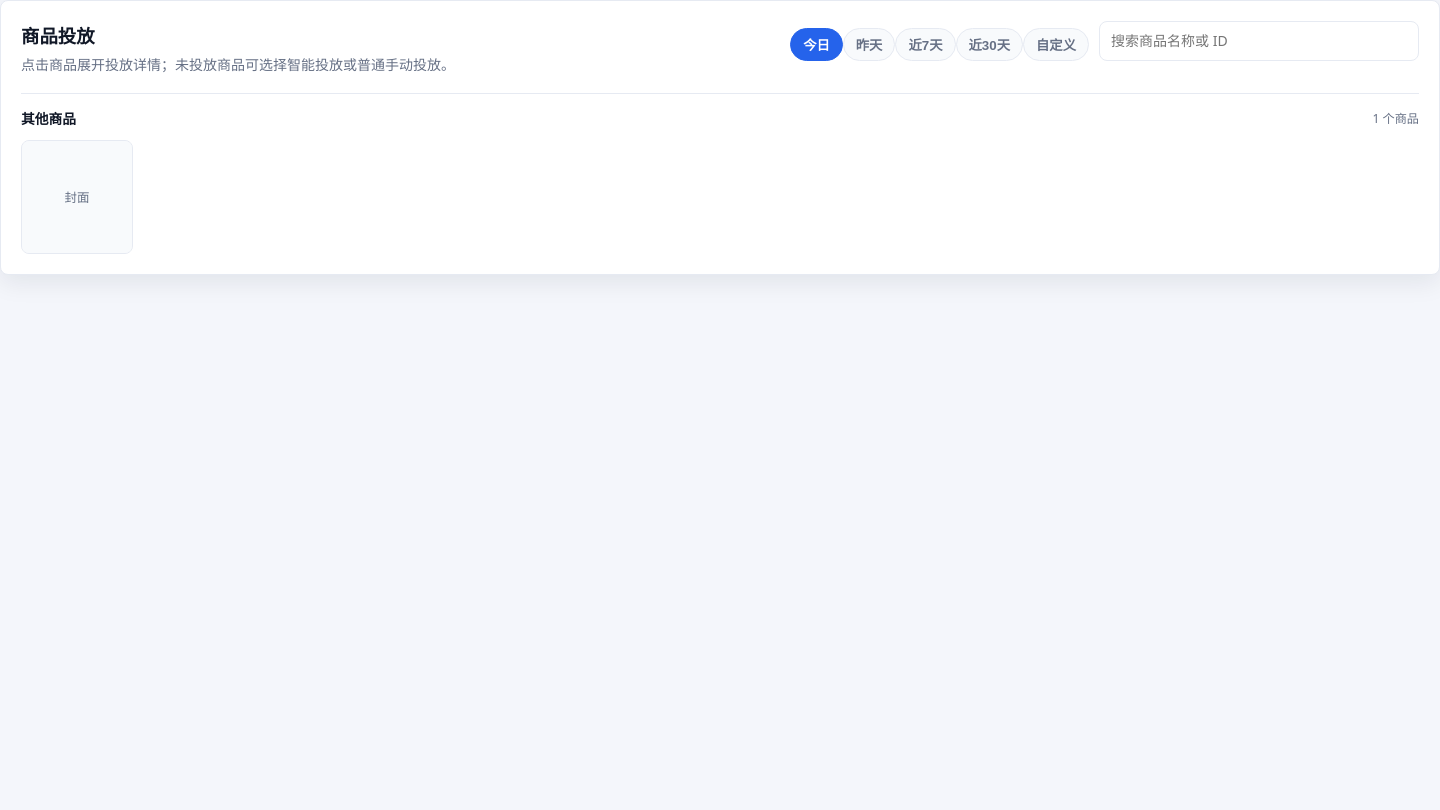
Test case: ProductAutomationPanel campaign creation result › creates an image-only Product GMV Max campaign when no identity is available
Click the button with aria-label "展开商品 测试商品".
click(77, 197)  # box top-left (22, 141), bottom-right (132, 253)
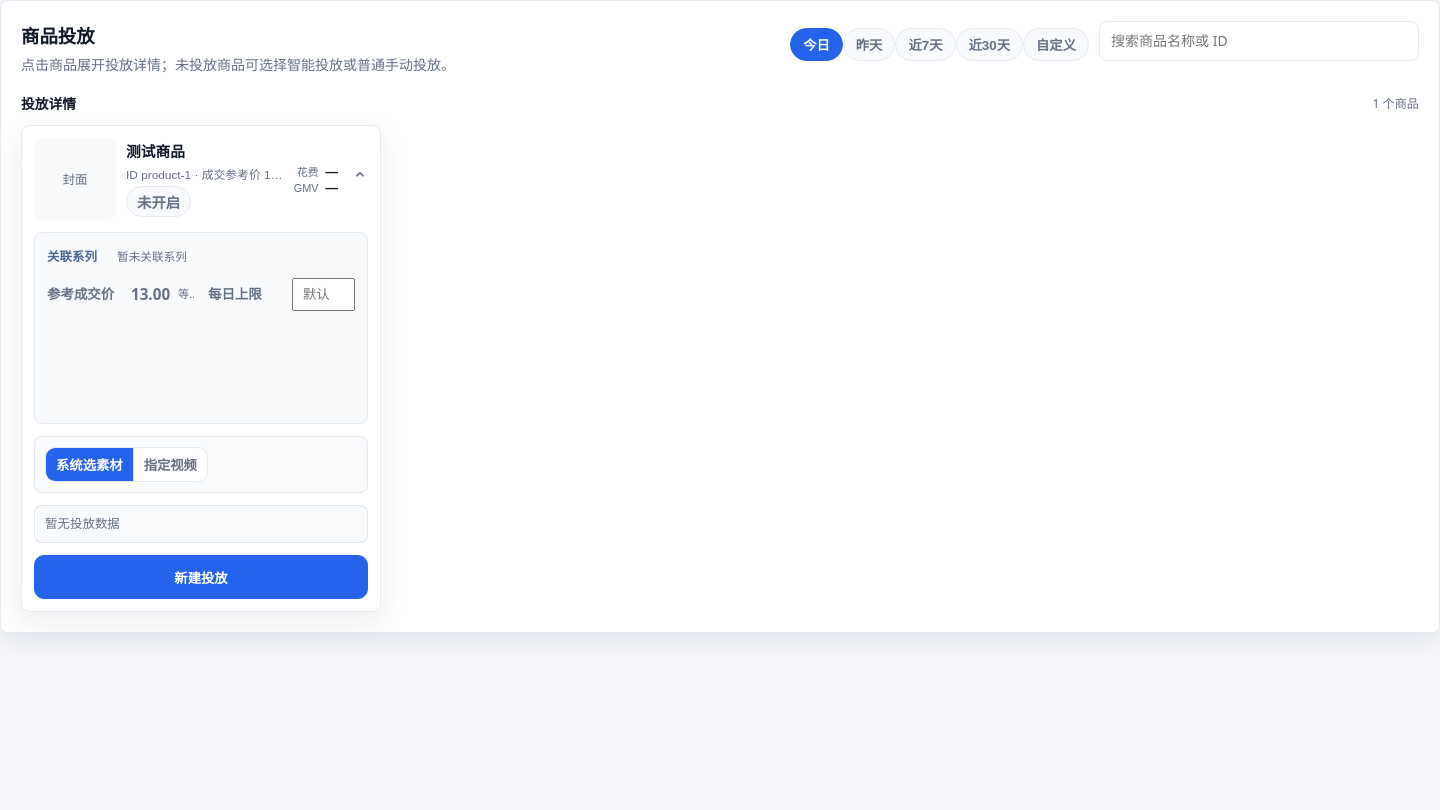
Click the button "新建投放".
click(201, 577)  # box top-left (34, 555), bottom-right (368, 599)
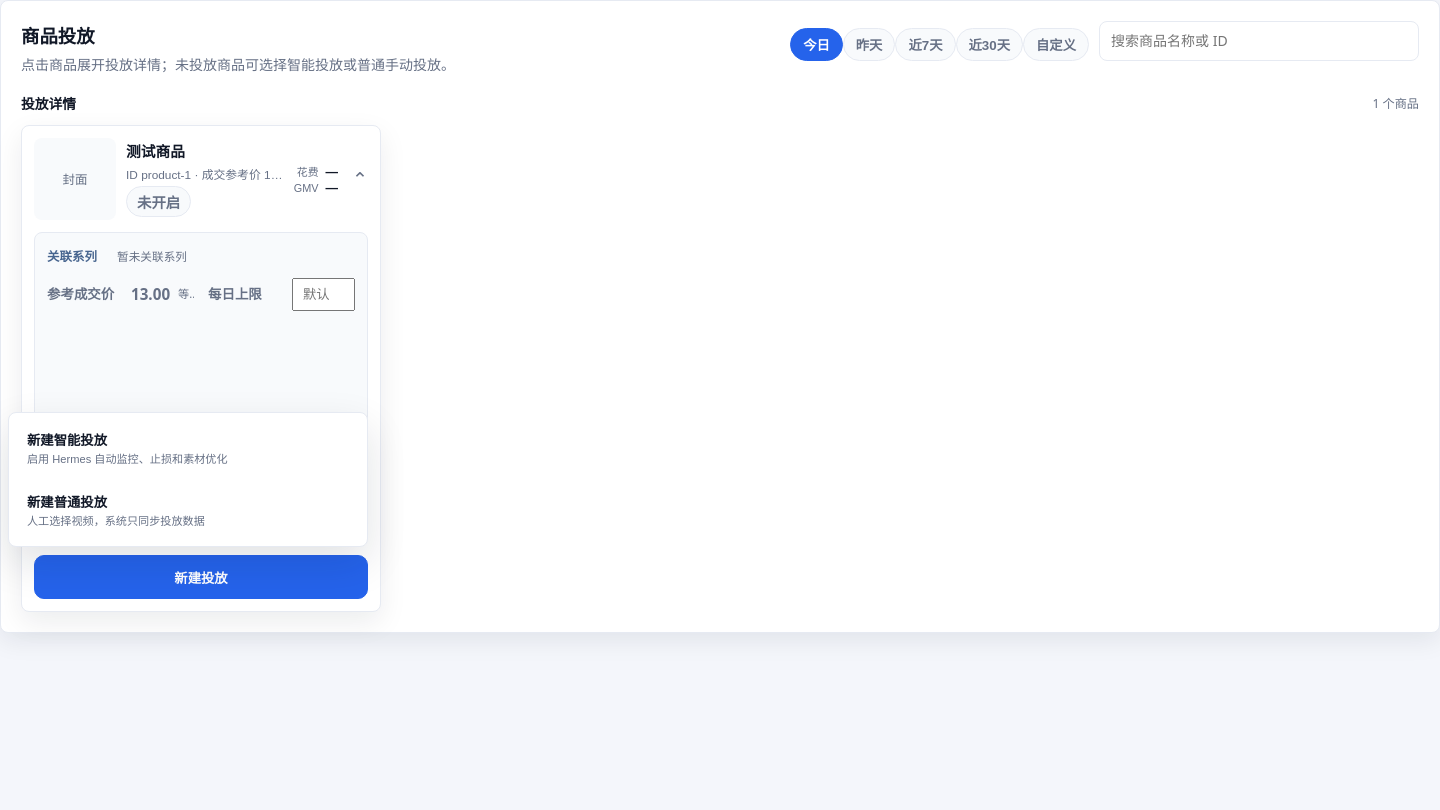
Click the button "新建智能投放 启用 Hermes 自动监控、止损和素材优化".
click(67, 441)  # box top-left (16, 420), bottom-right (360, 477)
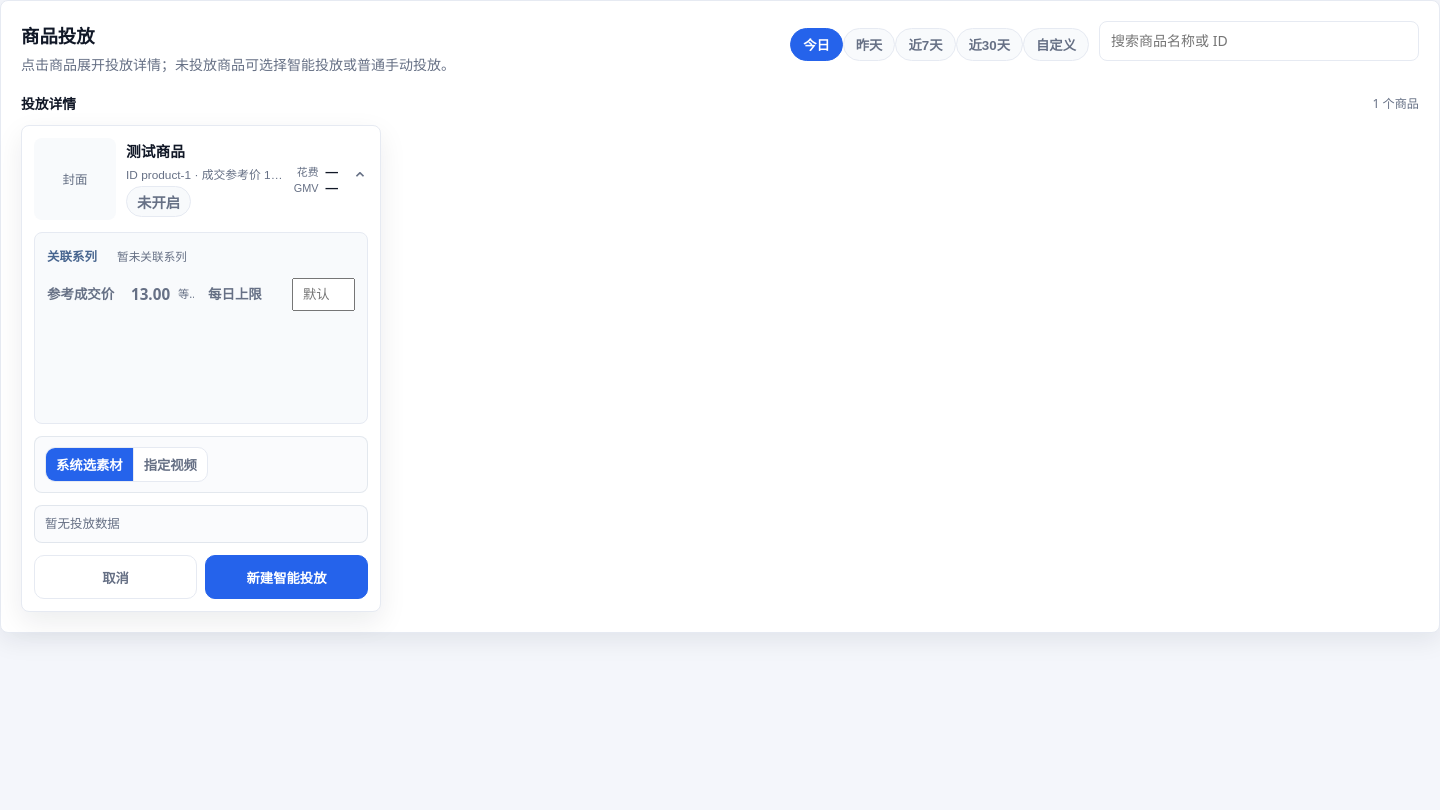
Click the button "新建智能投放".
click(286, 577)  # box top-left (205, 555), bottom-right (368, 599)
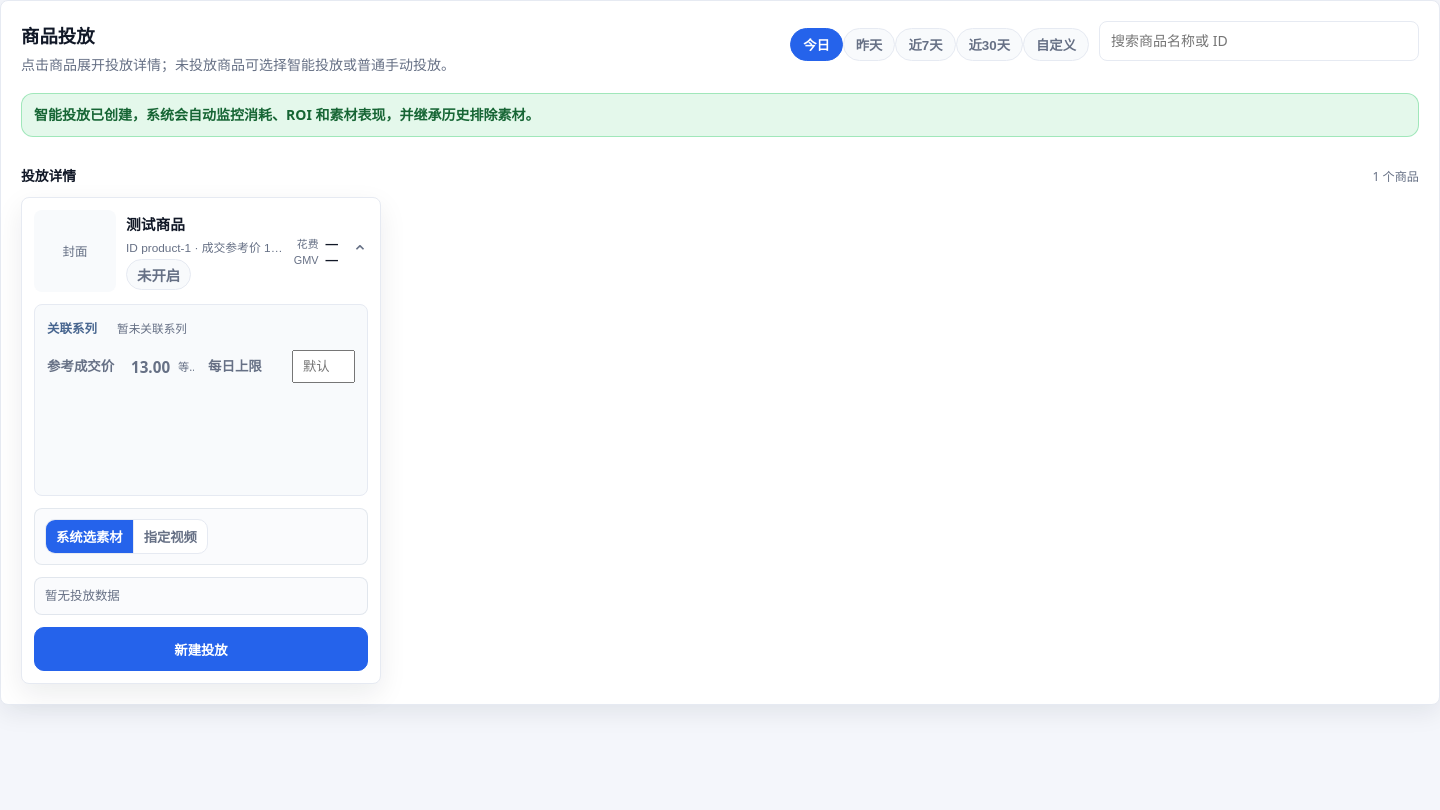
expect the text "智能投放已创建，系统会自动监控消耗、ROI 和素材表现，并继承历史排除素材。" is shown: met, box top-left (21, 93), bottom-right (1419, 137)
